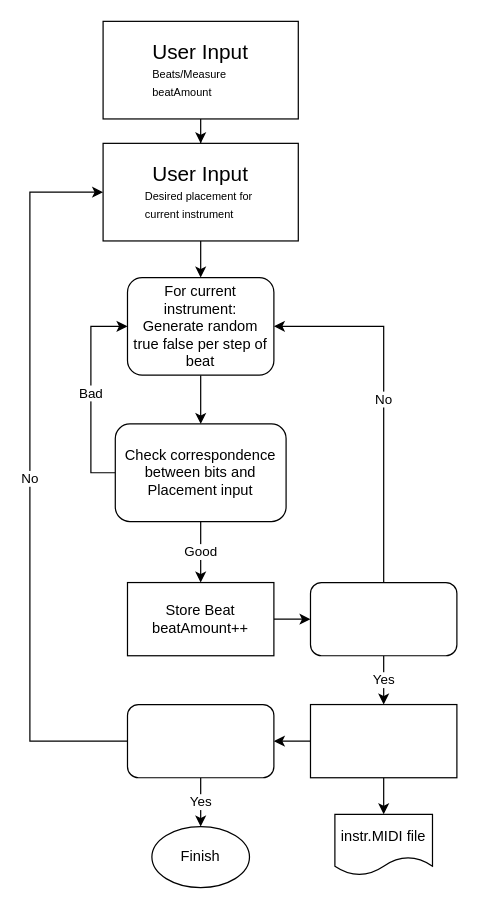
The diagram is 478 pixels wide and 909 high, and some of its shapes have lost their labels. The shapes that lost their labels are listed below. From the top down, each one's centre as x and y in pixels, then its label:
At (x=383, y=618): "BeatAmount reached?".
At (x=200, y=740): "All instruments covered?".
At (x=383, y=740): "Generate MIDI".
